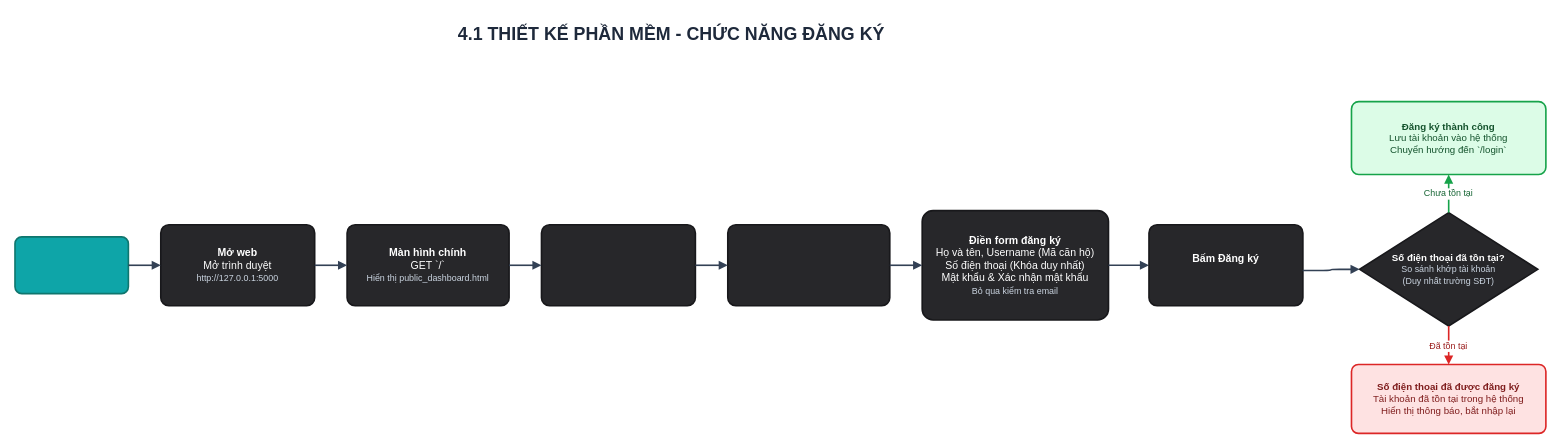
Some shapes in this 1560 by 448 pixel diagram are drawn without their labels. Here are the shapes that lost their labels. From the top down, the centre of each, then its label:
At point (71, 265): "START".
At point (618, 265): "Bấm Đăng ký Nhấn nút 'Đăng ký' Trên màn hình chính".
At point (808, 265): "Mở trang đăng ký GET `/register` Hiển thị register.html".
